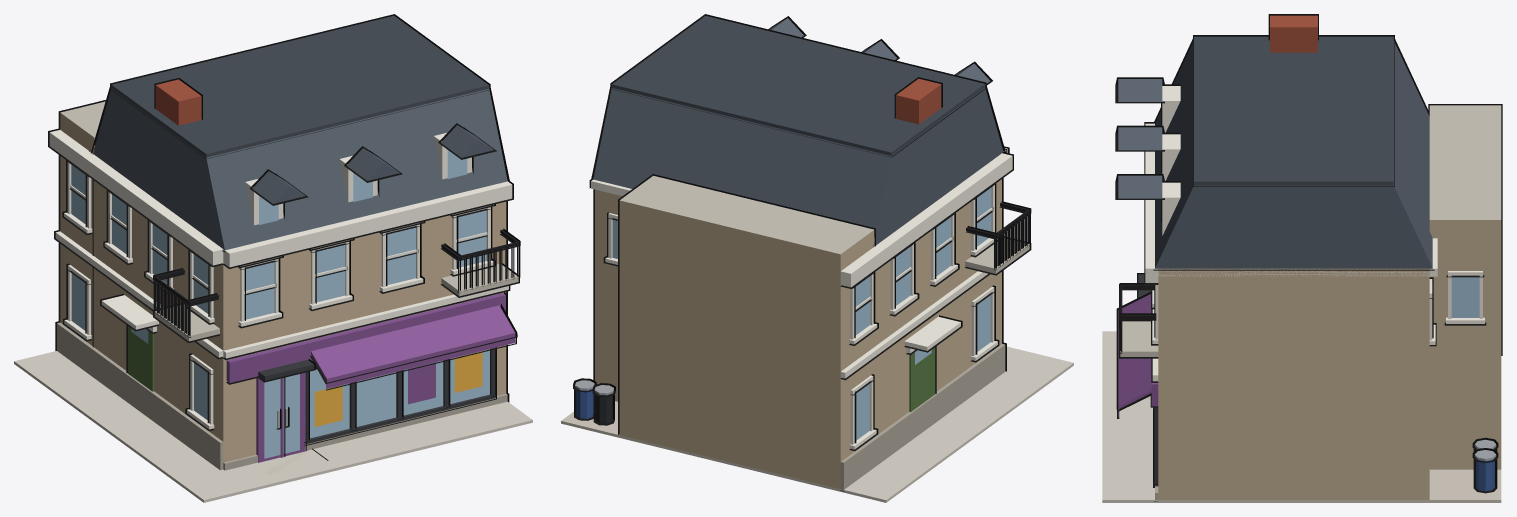
Rendered from Blok_kose_2k_3.fbx.
The picture shows the model from 3 angles, left to right: view 1: azimuth 30°, elevation 25°; view 2: azimuth 150°, elevation 25°; view 3: azimuth 270°, elevation 25°; orthographic projection. The views are drawn at different scales.
Visible parts, largest first — view 1: Blok_kose_2k_3; view 2: Blok_kose_2k_3; view 3: Blok_kose_2k_3.
Part boxes in pixels (x1,y1,x2,y2): Blok_kose_2k_3: (14,14,532,502); Blok_kose_2k_3: (561,14,1073,502); Blok_kose_2k_3: (1102,14,1502,502).
Size of the model in its own units: 10.05 by 9.68 by 10.03.
